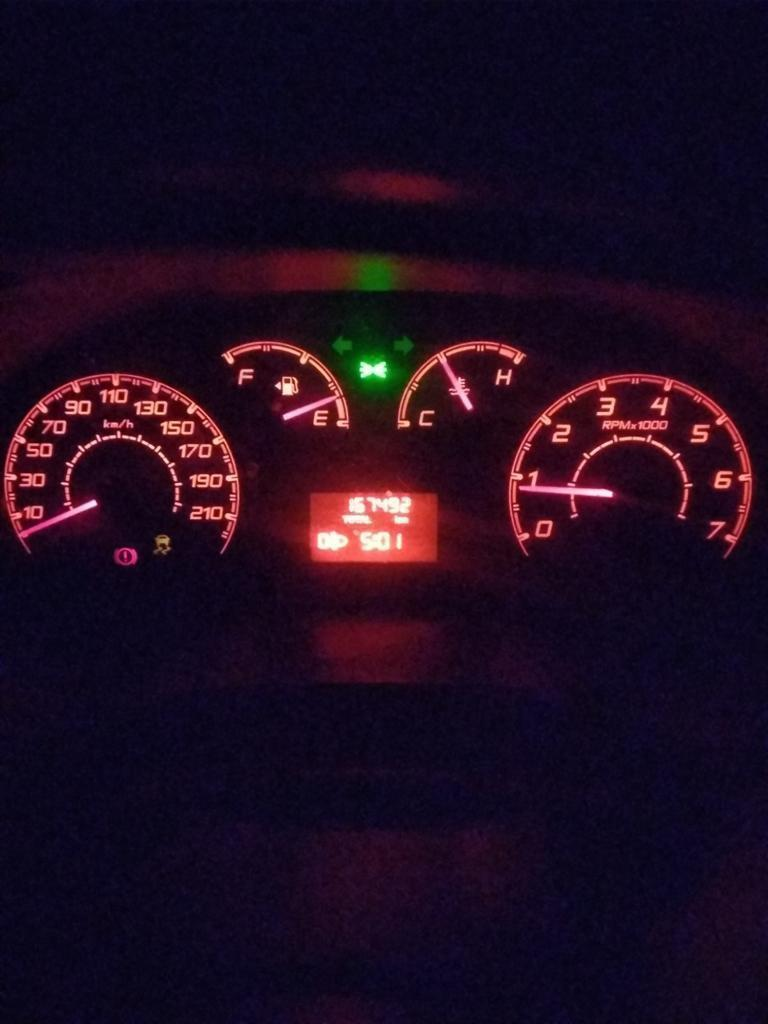0: (377, 530, 390, 552), (316, 531, 330, 550)
1: (394, 530, 403, 550), (345, 496, 353, 513)
2: (398, 496, 411, 514)
4: (376, 496, 388, 513)
5: (359, 530, 372, 551)
6: (353, 495, 365, 514)
7: (365, 495, 376, 513)
9: (387, 495, 399, 514)
X: (399, 516, 409, 524), (341, 513, 348, 524), (392, 514, 399, 524), (353, 514, 360, 524), (372, 533, 376, 549), (365, 514, 371, 524), (348, 514, 353, 524), (360, 514, 365, 524)
odometer: (302, 486, 444, 568)
